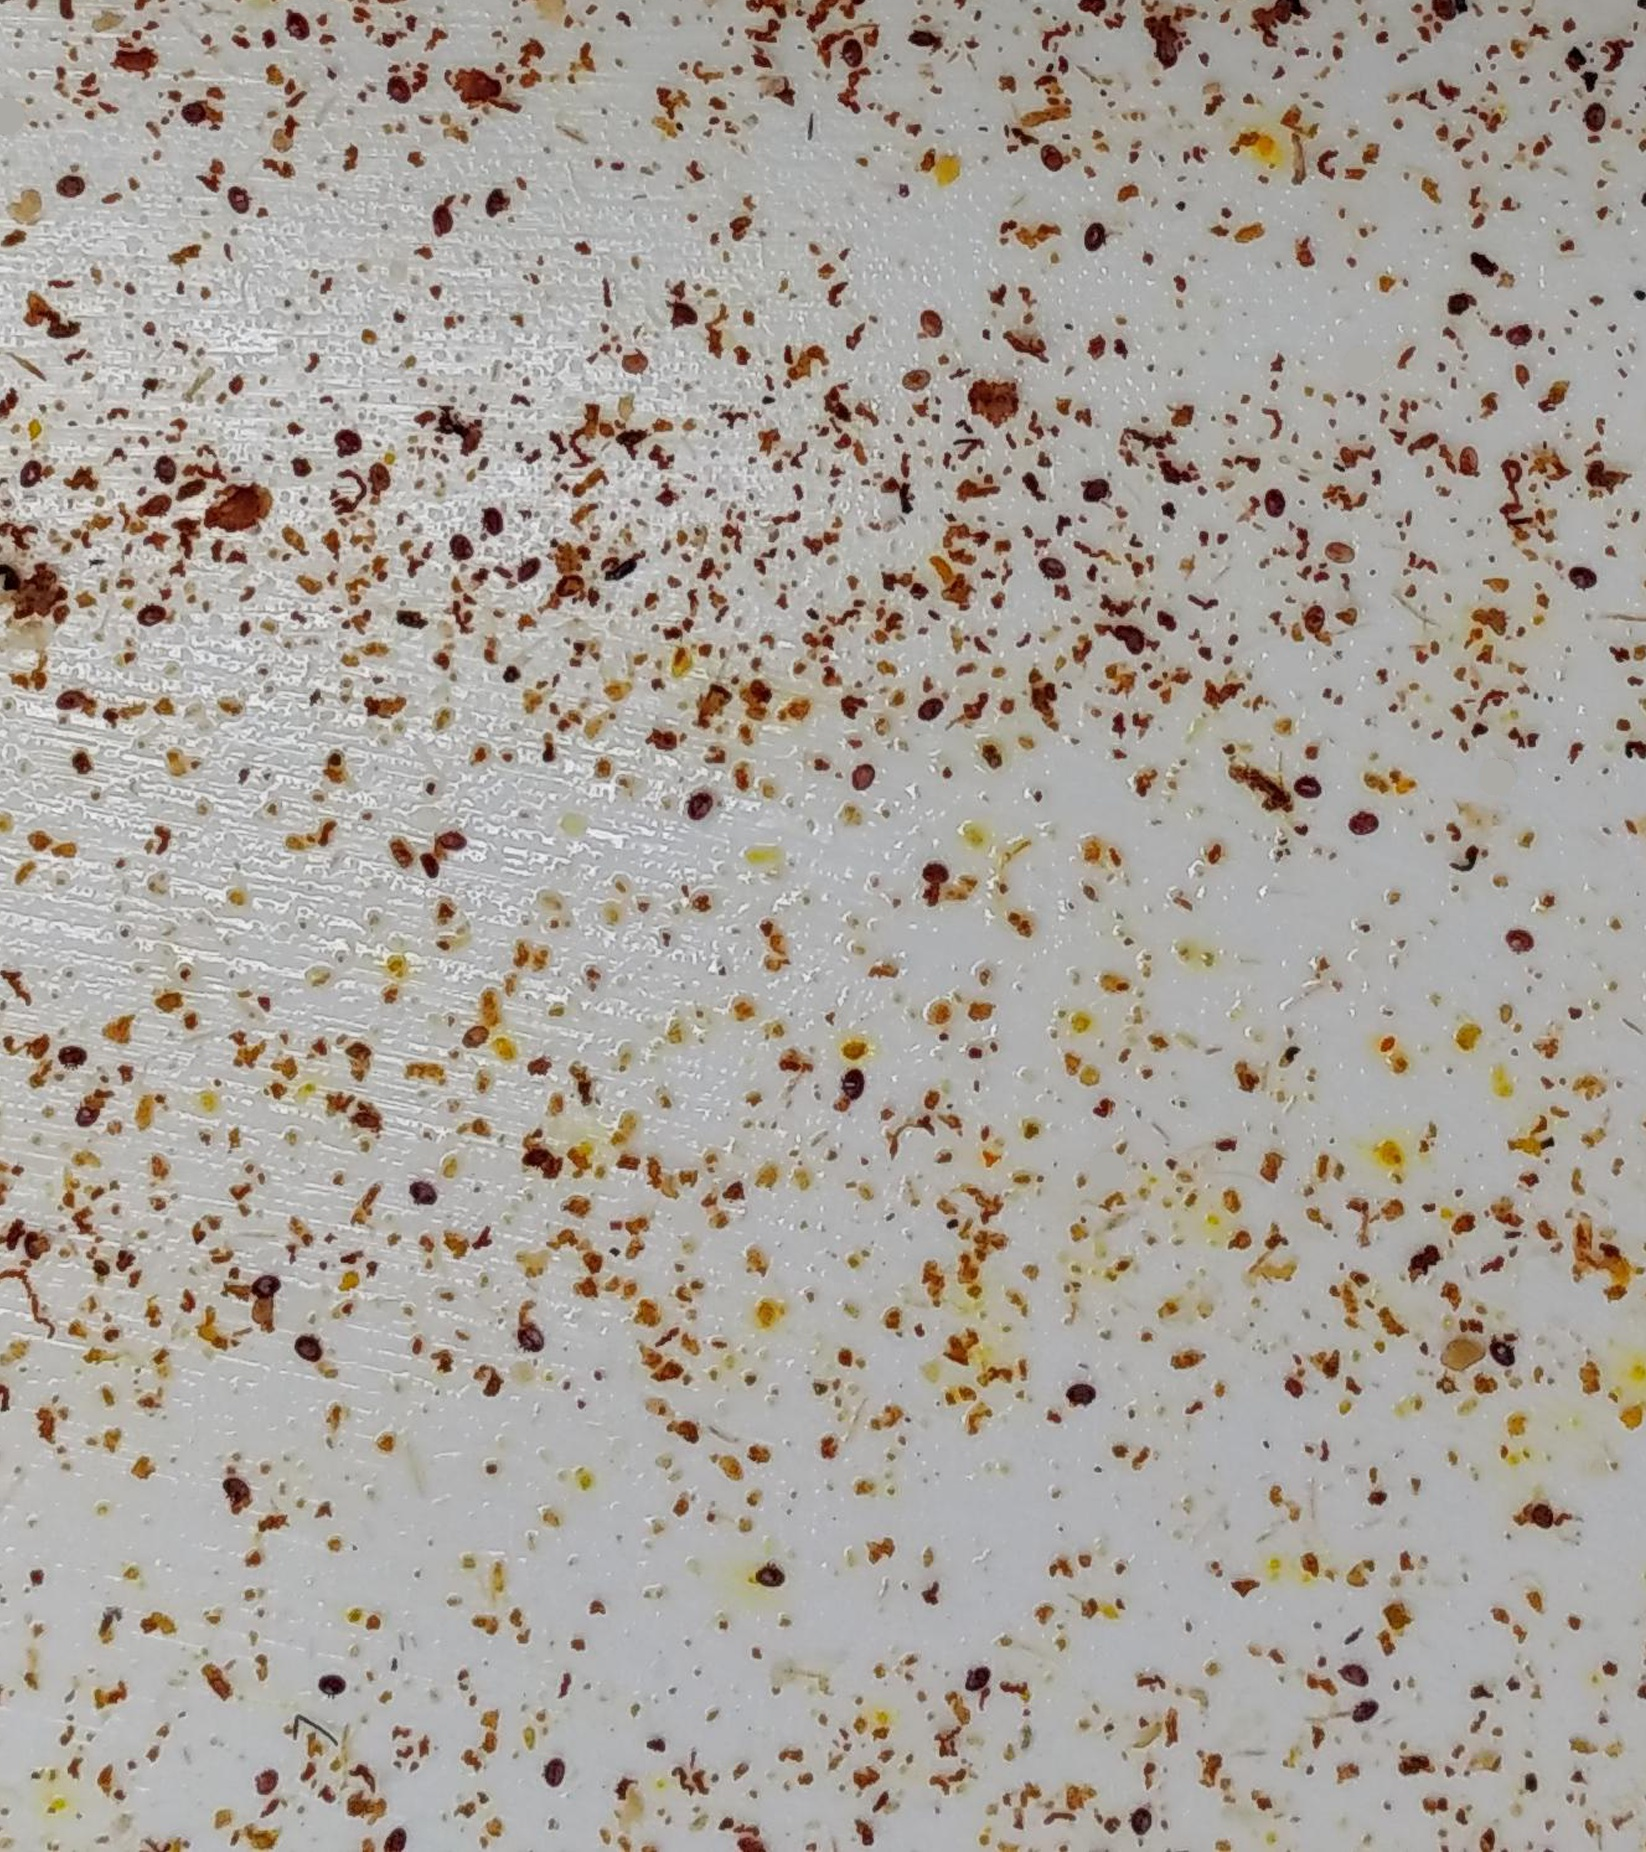Varroa: (138, 481, 180, 526), (1449, 440, 1490, 481), (51, 685, 91, 727), (1034, 561, 1072, 602), (334, 430, 372, 472), (890, 357, 928, 399), (1293, 761, 1331, 802), (426, 826, 464, 866), (11, 459, 48, 500), (1122, 1809, 1158, 1850), (1500, 311, 1538, 349), (480, 178, 516, 218), (918, 858, 955, 897), (910, 303, 945, 343), (249, 1752, 284, 1792), (515, 1312, 550, 1352), (1323, 534, 1358, 573), (753, 1550, 786, 1592), (909, 689, 945, 726), (682, 781, 717, 820), (1258, 484, 1293, 523), (1077, 473, 1112, 511), (958, 1657, 993, 1695), (1520, 1496, 1555, 1534), (834, 29, 869, 67), (381, 68, 416, 105), (1343, 804, 1379, 839), (137, 597, 172, 634), (459, 1017, 496, 1051), (1506, 920, 1543, 955), (245, 1277, 280, 1314), (834, 1066, 869, 1102), (520, 1142, 554, 1179), (60, 1039, 99, 1072), (1037, 138, 1072, 173), (1567, 556, 1602, 591), (535, 1754, 570, 1788), (222, 1468, 257, 1503), (1578, 102, 1613, 137), (180, 87, 214, 122), (219, 183, 254, 218), (1343, 1663, 1377, 1698), (291, 1326, 327, 1360), (423, 202, 459, 235), (1076, 218, 1107, 256), (315, 1665, 350, 1698), (848, 759, 882, 794), (1061, 1377, 1096, 1410), (408, 1171, 442, 1206), (281, 13, 316, 46), (1346, 1695, 1381, 1728), (54, 167, 86, 203), (478, 510, 512, 543), (1115, 621, 1150, 653), (554, 562, 586, 597), (1300, 604, 1333, 635), (153, 453, 186, 484), (362, 464, 396, 496), (8, 1228, 41, 1260), (1486, 1345, 1517, 1379), (621, 340, 655, 372), (906, 22, 937, 56), (1152, 25, 1184, 59), (663, 294, 694, 327), (439, 527, 470, 559), (311, 1344, 327, 1364)
